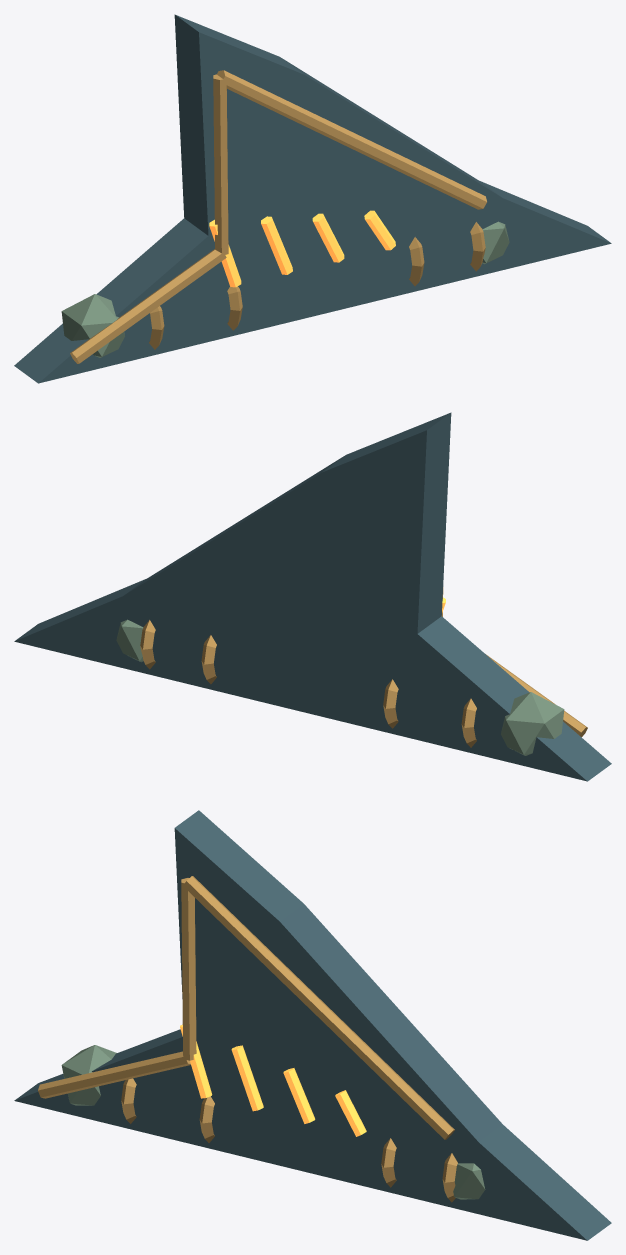
File: guardian-lance-fin.glb
3 views of the same model, one above another, from view 1: azimuth 30°, elevation 25°; view 2: azimuth 150°, elevation 25°; view 3: azimuth 330°, elevation 25° (orthographic).
Parts seen in each view (by area): view 1: Jagddom swept articulated fin, guardian-lance-fin / Brass | guardian machined gold, guardian-lance-fin / Copper | guardian aged copper, guardian-lance-fin / Lamp | guardian vented amber; view 2: Jagddom swept articulated fin, guardian-lance-fin / Copper | guardian aged copper, guardian-lance-fin / Brass | guardian machined gold; view 3: Jagddom swept articulated fin, guardian-lance-fin / Brass | guardian machined gold, guardian-lance-fin / Lamp | guardian vented amber, guardian-lance-fin / Copper | guardian aged copper.
Part boxes in pixels (box(x1,y1,x2,y2)): Jagddom swept articulated fin: box(14, 14, 611, 383); guardian-lance-fin / Brass | guardian machined gold: box(70, 70, 486, 363); guardian-lance-fin / Copper | guardian aged copper: box(61, 221, 509, 357); guardian-lance-fin / Lamp | guardian vented amber: box(209, 210, 395, 287); Jagddom swept articulated fin: box(14, 412, 611, 781); guardian-lance-fin / Copper | guardian aged copper: box(116, 619, 564, 755); guardian-lance-fin / Brass | guardian machined gold: box(140, 587, 587, 747); Jagddom swept articulated fin: box(14, 810, 611, 1240); guardian-lance-fin / Brass | guardian machined gold: box(38, 876, 457, 1202); guardian-lance-fin / Lamp | guardian vented amber: box(180, 1024, 366, 1136); guardian-lance-fin / Copper | guardian aged copper: box(61, 1045, 485, 1199).
Bounding box in the file's own units: 3 × 1.58 × 0.3473.
